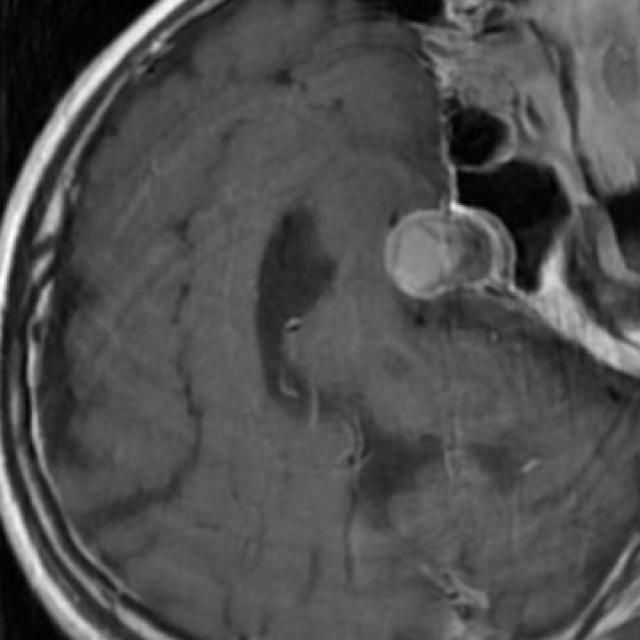pituitary: (385, 205, 510, 301)
